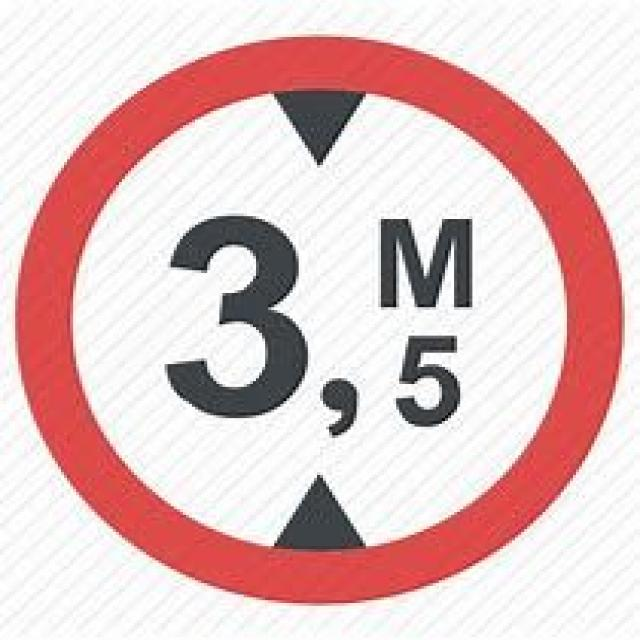HEIGHT_LIMIT: (12, 31, 619, 606)
